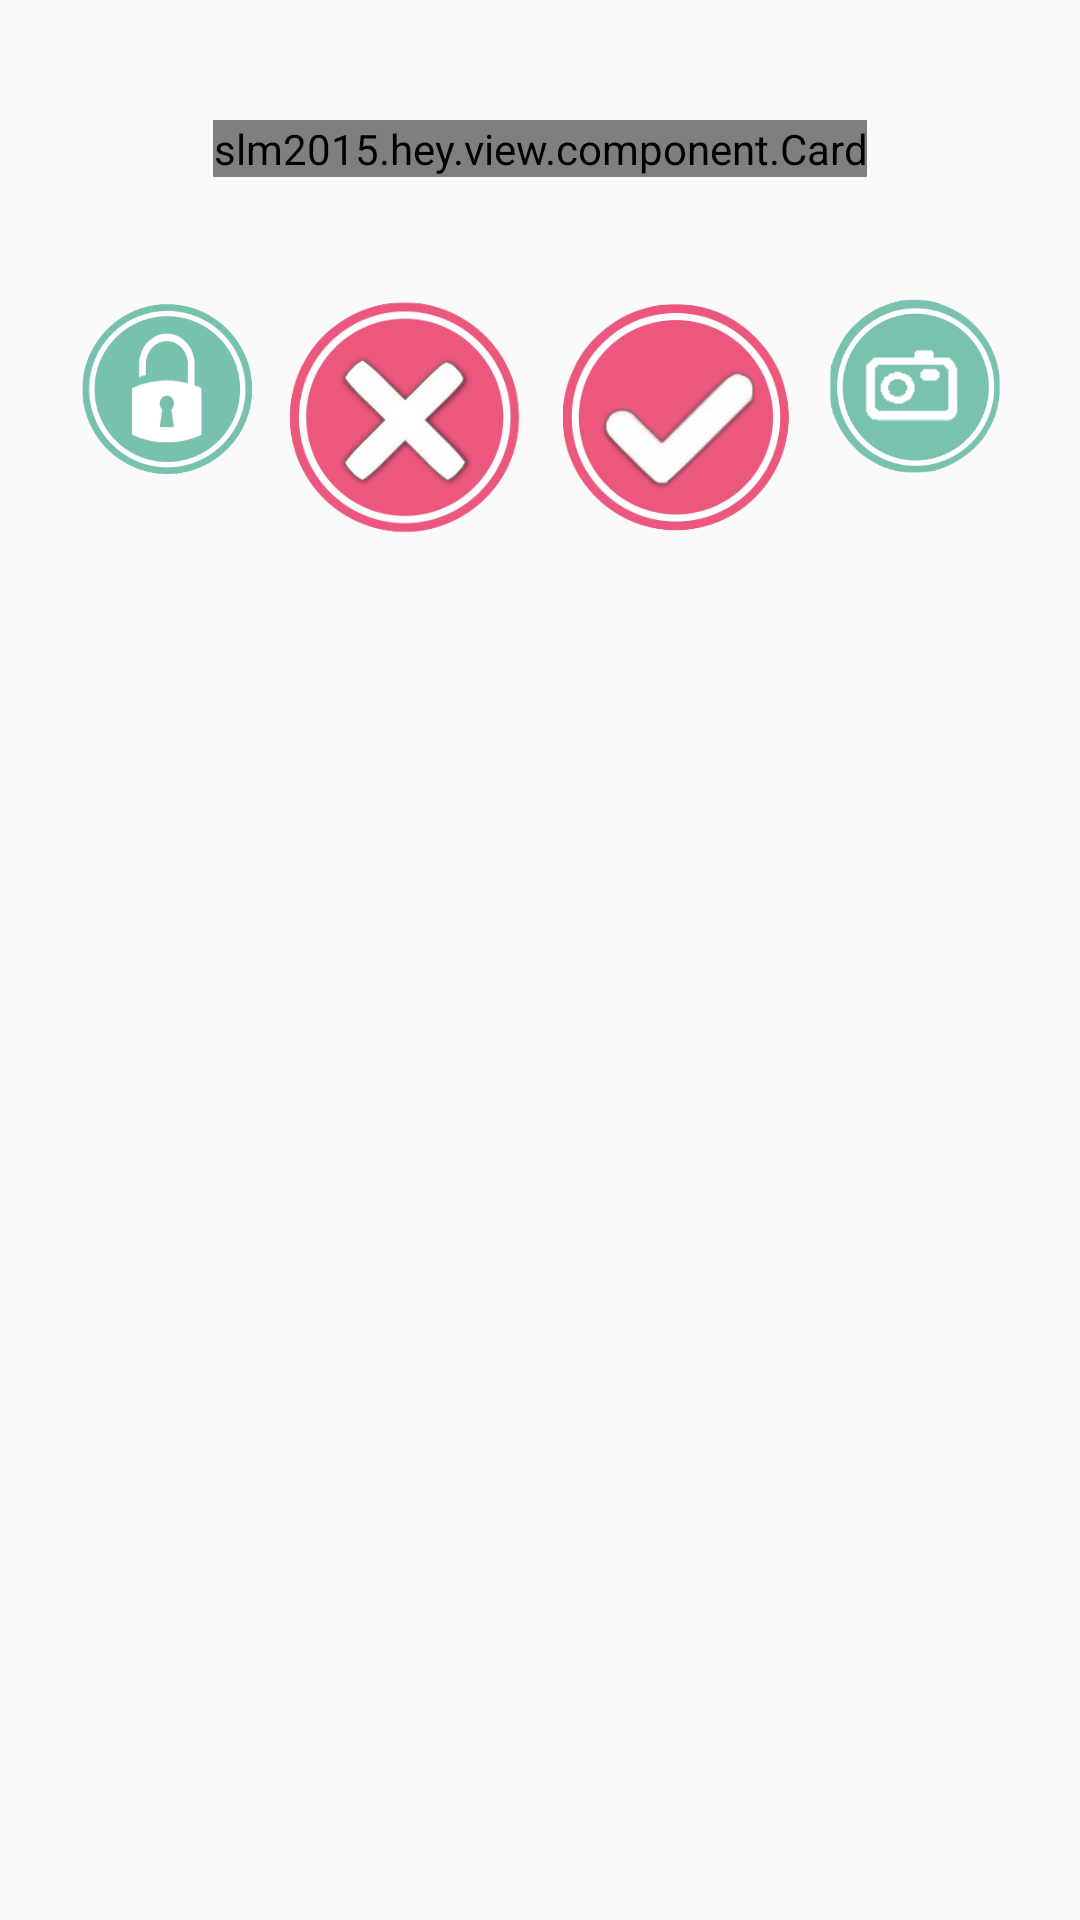

Named icons in this screenshot (1080 × 1920) and their centers, point (x, y):
camera: point (915, 386)
cancel: point (404, 417)
lock: point (167, 389)
